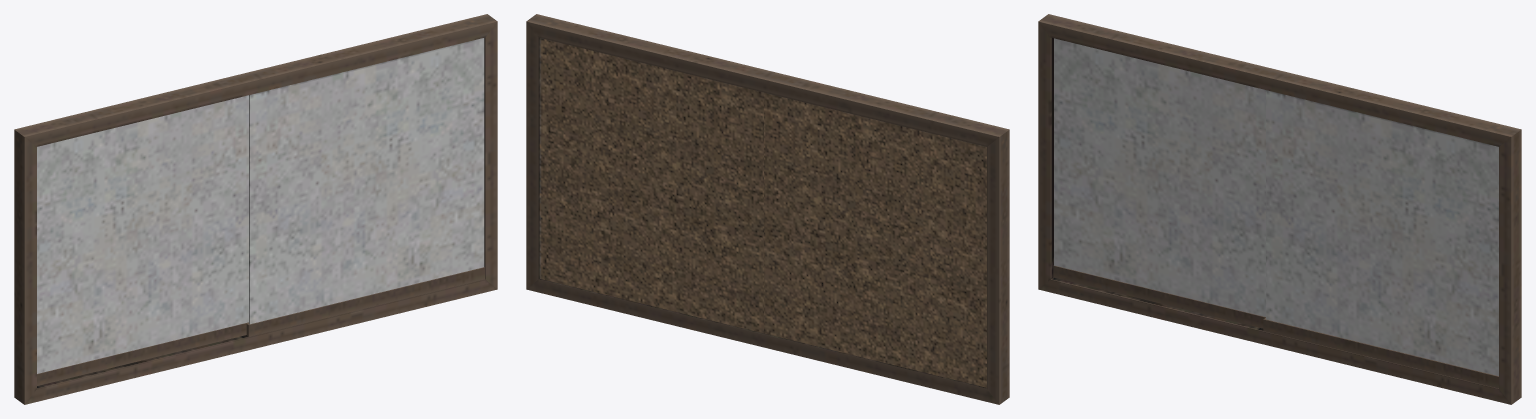
File: 136_CorkBoard.fbx
3 renders of one model, left to right at view 1: azimuth 30°, elevation 25°; view 2: azimuth 150°, elevation 25°; view 3: azimuth 330°, elevation 25°, orthographic.
Visible parts, largest first — view 1: LOD_1_Group_0_Sub_2__sm30_136_CorkBoard02A_A_Mat, LOD_1_Group_0_Sub_1__sm30_136_CorkBoard02A_B_Mat; view 2: LOD_1_Group_0_Sub_1__sm30_136_CorkBoard02A_B_Mat; view 3: LOD_1_Group_0_Sub_2__sm30_136_CorkBoard02A_A_Mat, LOD_1_Group_0_Sub_1__sm30_136_CorkBoard02A_B_Mat.
Boxes of the visible parts, x1,y1,x2,y2 form: LOD_1_Group_0_Sub_2__sm30_136_CorkBoard02A_A_Mat: (37, 38, 484, 373); LOD_1_Group_0_Sub_1__sm30_136_CorkBoard02A_B_Mat: (14, 14, 497, 404); LOD_1_Group_0_Sub_1__sm30_136_CorkBoard02A_B_Mat: (526, 14, 1009, 404); LOD_1_Group_0_Sub_2__sm30_136_CorkBoard02A_A_Mat: (1054, 38, 1498, 376); LOD_1_Group_0_Sub_1__sm30_136_CorkBoard02A_B_Mat: (1038, 14, 1521, 404).
Size of the model in its own units: 1.88 by 1.02 by 0.0712.
